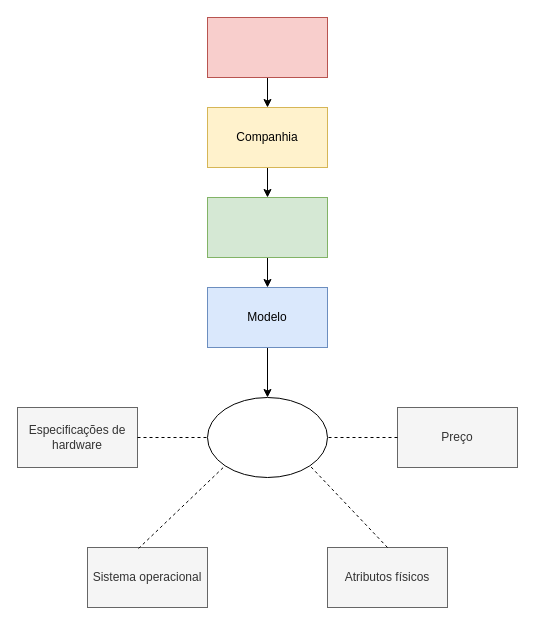
Some shapes in this 535 by 625 pixel diagram are drawn without their labels. Here are the shapes that lost their labels. From the top down, the box of each, then its label:
(206, 16, 328, 78): Laptop
(206, 196, 328, 258): Tipo de laptop
(206, 396, 328, 478): Características
